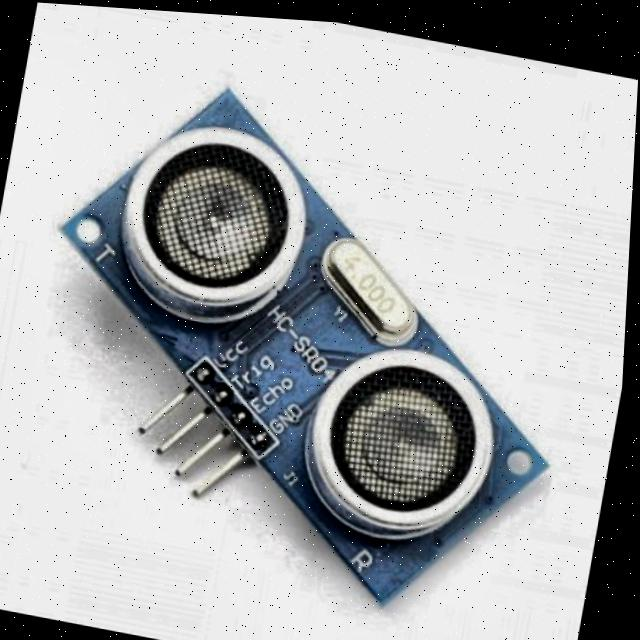Ultrasonic Sensor: (9, 56, 580, 640)
